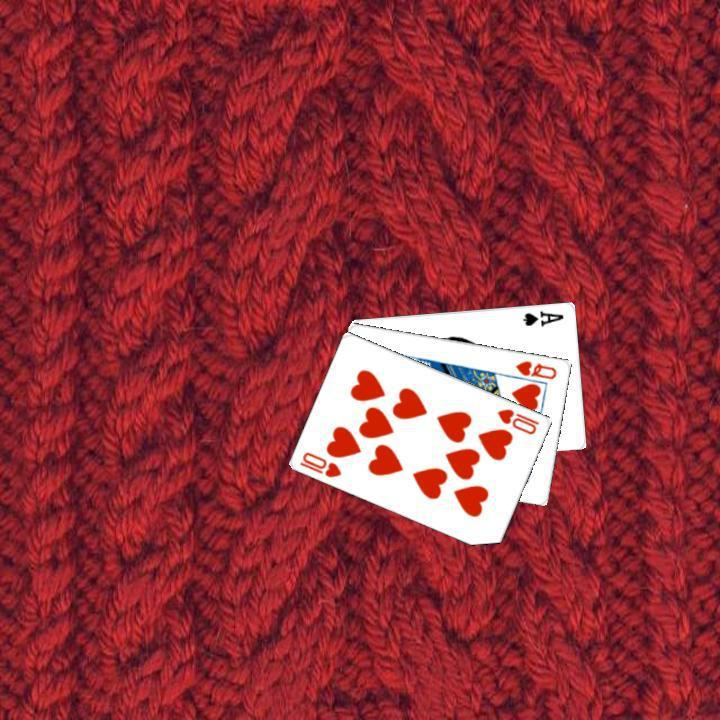10: (493, 404, 541, 436), (296, 447, 344, 479)
A: (519, 306, 566, 328)
Q: (512, 356, 559, 381)
